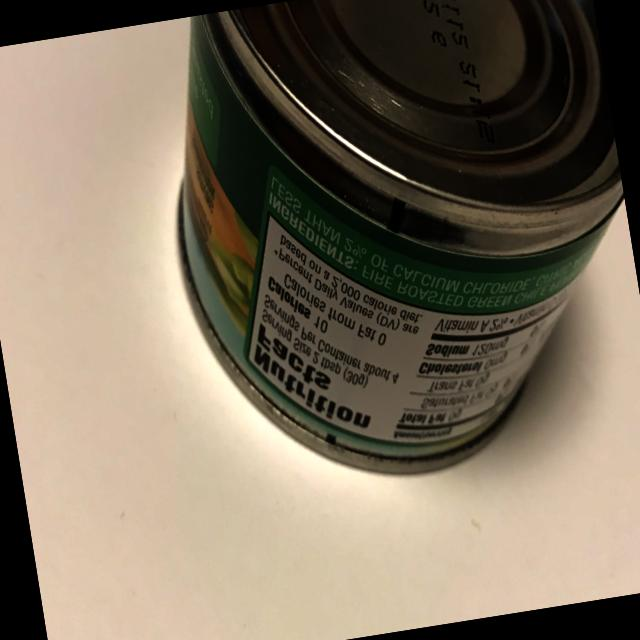Metal: (109, 0, 640, 531)
